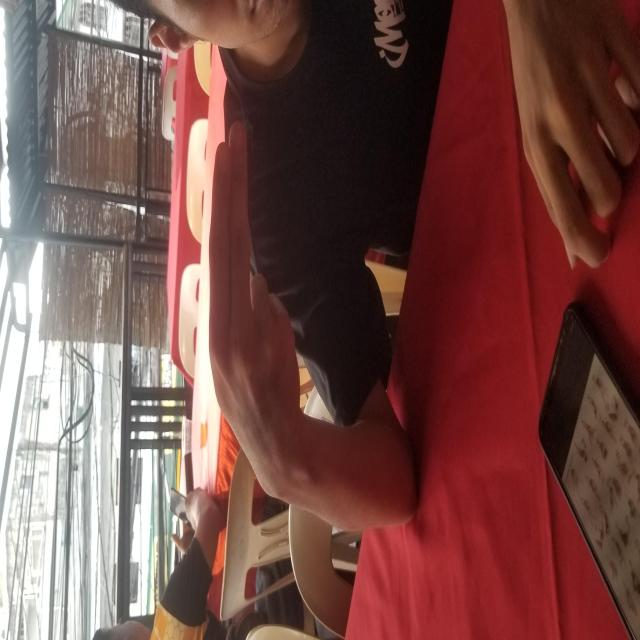H: (139, 205, 521, 302)
